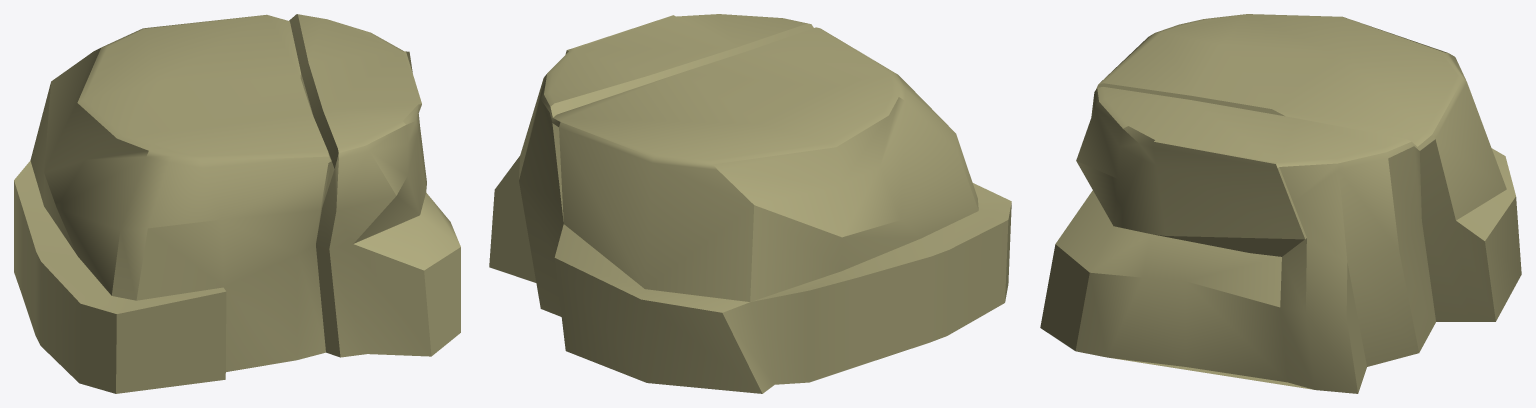
The model's file is cylinderRock.glb.
3 views of the same model, side by side, from view 1: azimuth 30°, elevation 25°; view 2: azimuth 150°, elevation 25°; view 3: azimuth 270°, elevation 25° (orthographic). The views are drawn at different scales.
Parts seen in each view (by area): view 1: Cube; view 2: Cube; view 3: Cube.
Part boxes in pixels (x1=…): Cube: x1=14, y1=14, x2=460, y2=393; Cube: x1=489, y1=14, x2=1011, y2=393; Cube: x1=1040, y1=14, x2=1521, y2=393.
Size of the model in its own units: 2.84 by 1.3 by 2.69.
Materials: 1 (1 with a texture image).
